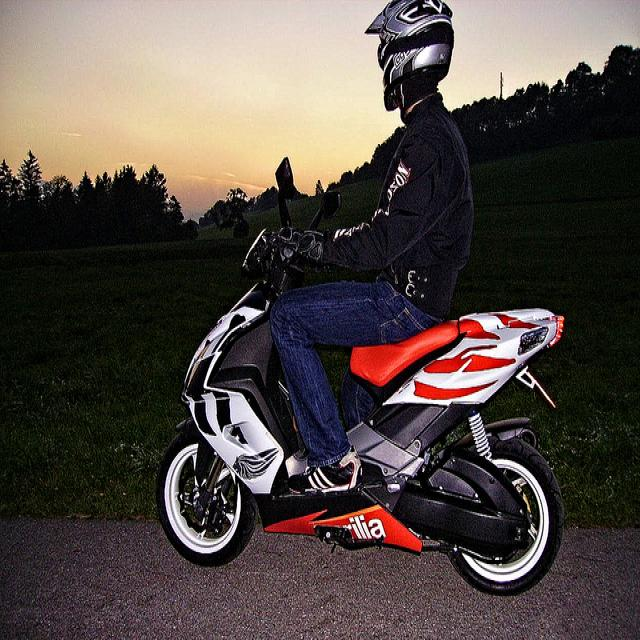motor: (157, 156, 574, 592)
